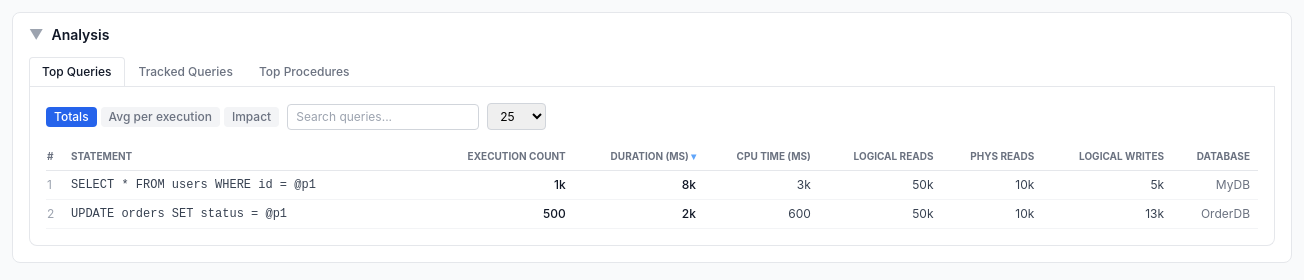
Test: AnalysisSection › Top Queries: toggle switches to Avg mode and changes headers
Expected: the text "SELECT * FROM users WHERE id = @p1" is shown, [71,178,316,192]
Click the button "Avg per execution".
click(160, 116)  # box [101,106,220,126]
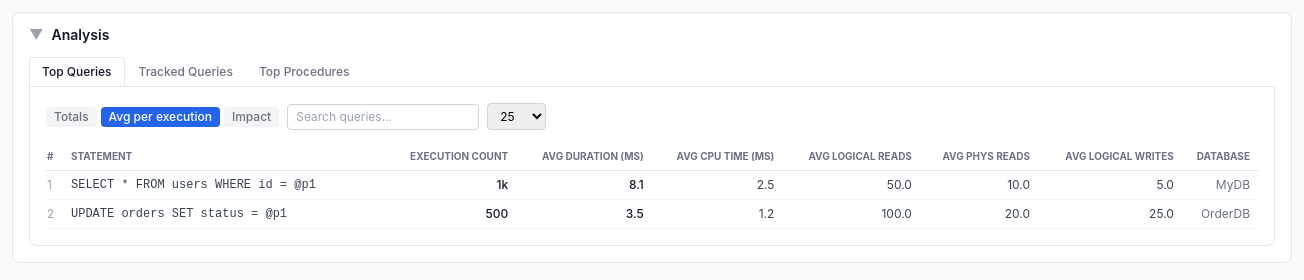
Expected: the column heading "Avg Duration (ms)" is shown, [516,142,652,170]
Expected: the column heading "Avg CPU time (ms)" is shown, [652,142,782,170]
